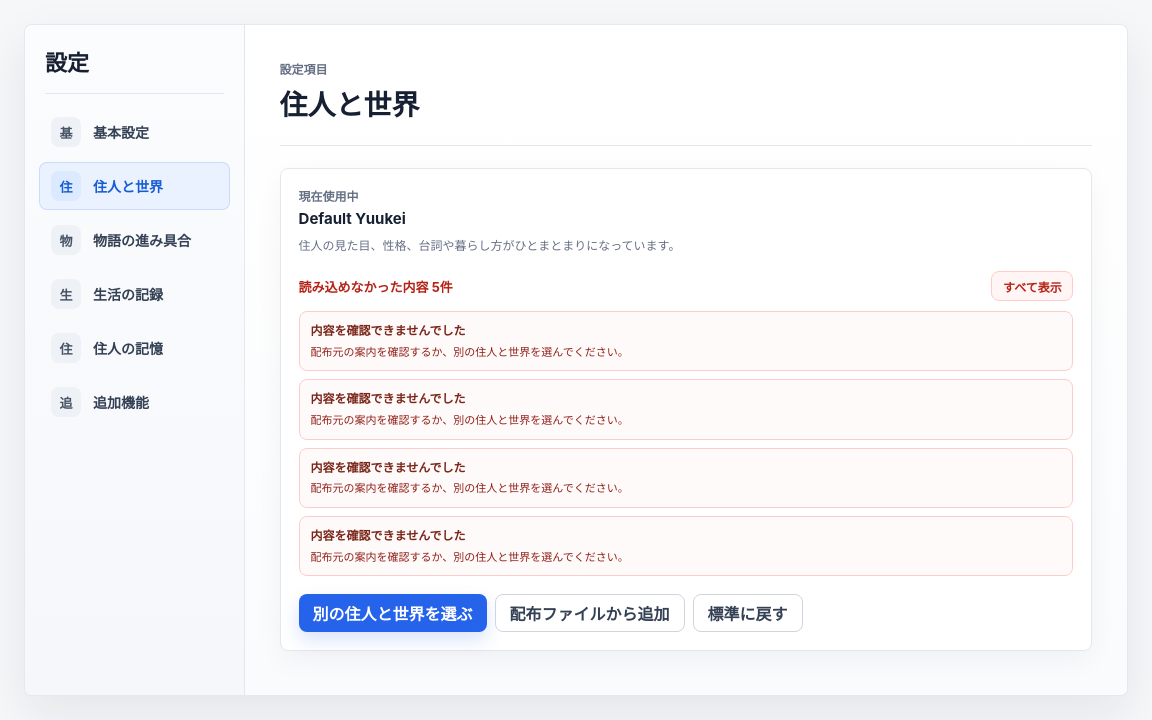
App › shows up to four Daihon diagnostics until expanded
This screenshot has width=1152, height=720.
Expected: the heading "読み込めなかった内容 5件" is shown, x1=298 y1=277 x2=453 y2=296
Expected: the number of list items is 4, x1=298 y1=311 x2=1073 y2=371; x1=298 y1=380 x2=1073 y2=440; x1=298 y1=448 x2=1073 y2=508; x1=298 y1=516 x2=1073 y2=576
Step 1. Click the button "すべて表示" → [1032, 286], box x1=992 y1=271 x2=1074 y2=301
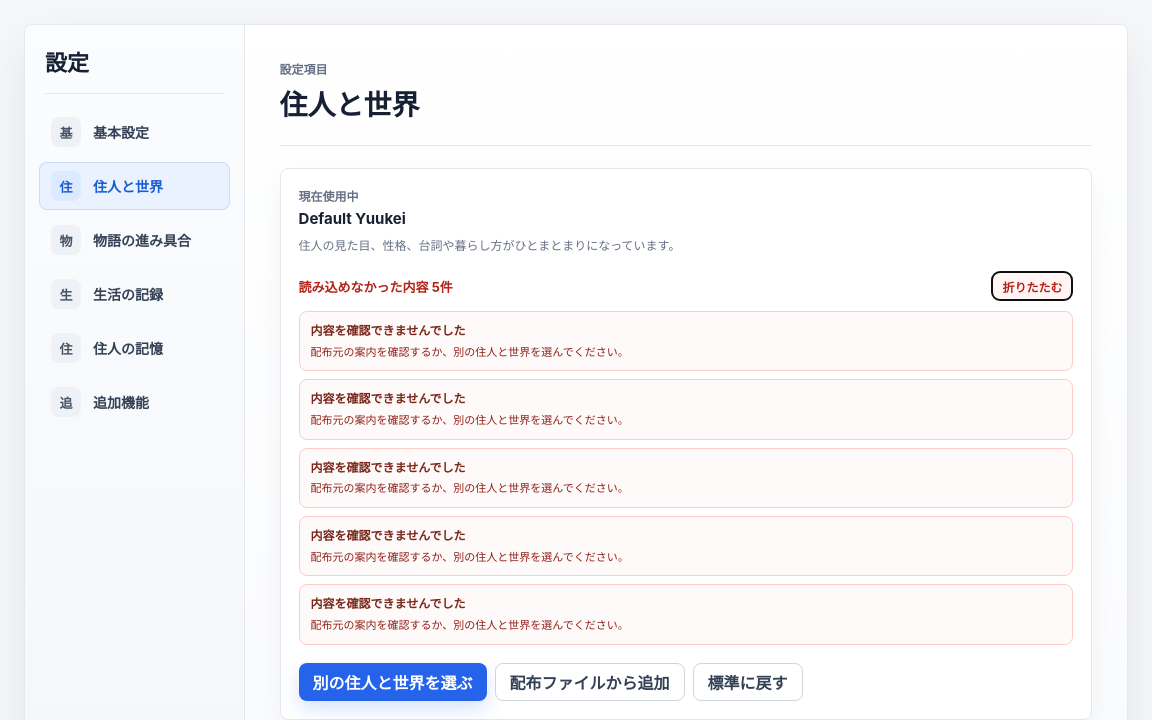
Expected: the number of list items is 5, x1=298 y1=311 x2=1073 y2=371; x1=298 y1=380 x2=1073 y2=440; x1=298 y1=448 x2=1073 y2=508; x1=298 y1=516 x2=1073 y2=576; x1=298 y1=584 x2=1073 y2=645
